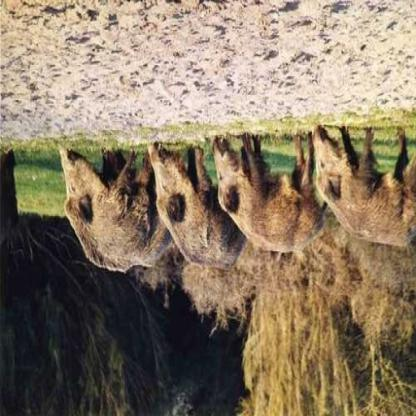boar: (137, 106, 239, 312), (211, 101, 328, 276), (44, 119, 161, 276), (309, 101, 415, 249)
